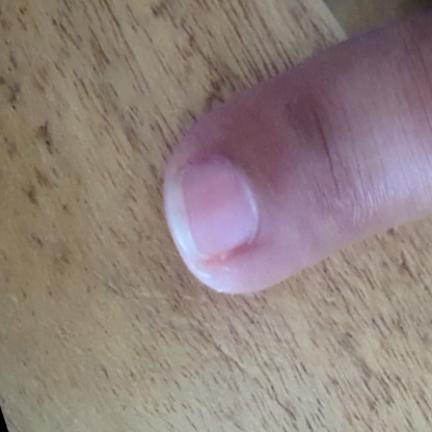Nail: (164, 157, 258, 261)
